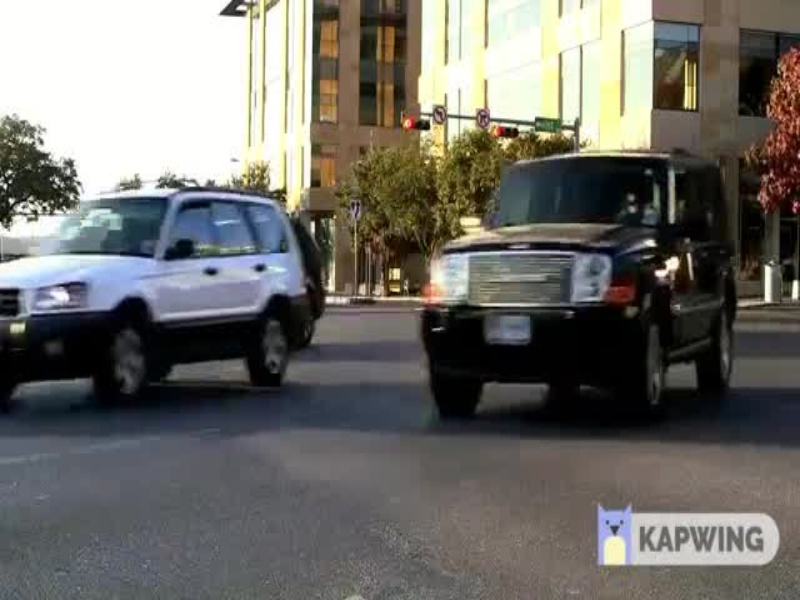suv: (393, 145, 745, 439), (1, 184, 309, 393)
